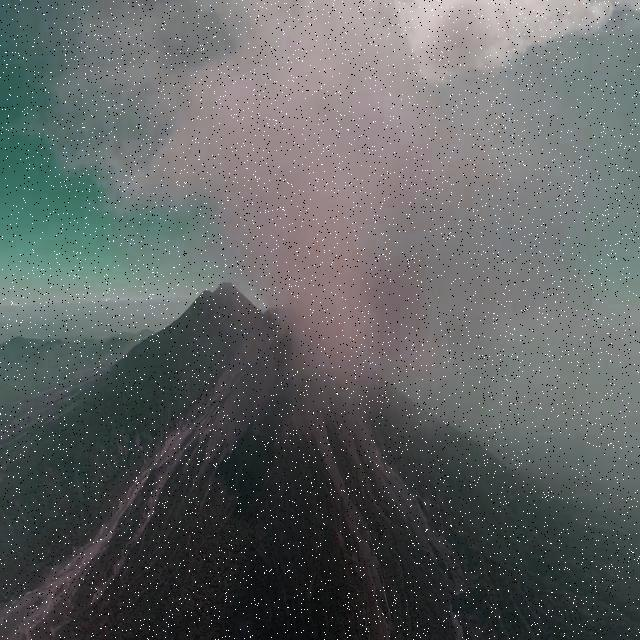Plume: (54, 0, 604, 409), (390, 0, 640, 100)
